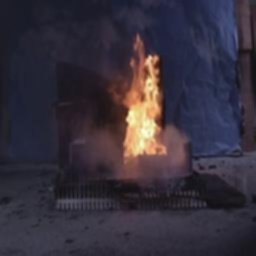fire: (113, 35, 166, 163)
